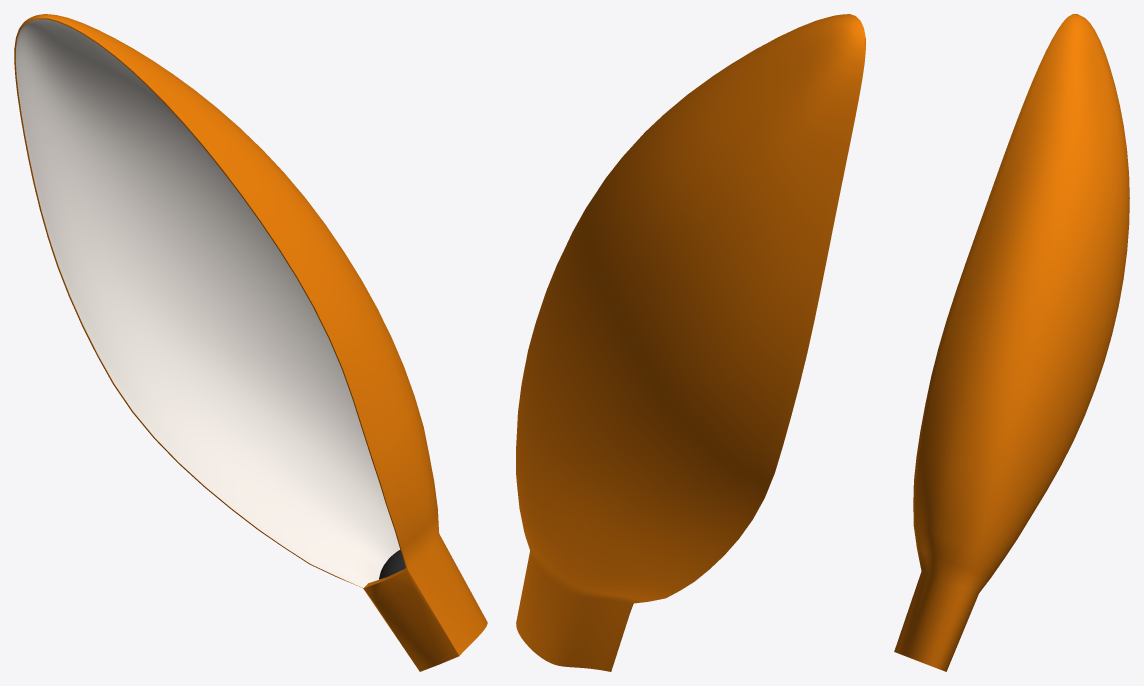
The model's file is r_ear.gltf.
3 renders of one model, left to right at view 1: azimuth 30°, elevation 25°; view 2: azimuth 150°, elevation 25°; view 3: azimuth 270°, elevation 25°, orthographic. The views are drawn at different scales.
Parts seen in each view (by area): view 1: Sphere018; view 2: Sphere018; view 3: Sphere018.
Part boxes in pixels (x1,y1,x2,y2): Sphere018: (14, 14, 487, 671); Sphere018: (516, 14, 865, 671); Sphere018: (894, 14, 1129, 671).
Size of the model in its own units: 4.91 by 8.29 by 3.31.
Materials: 3 (3 with a texture image).
